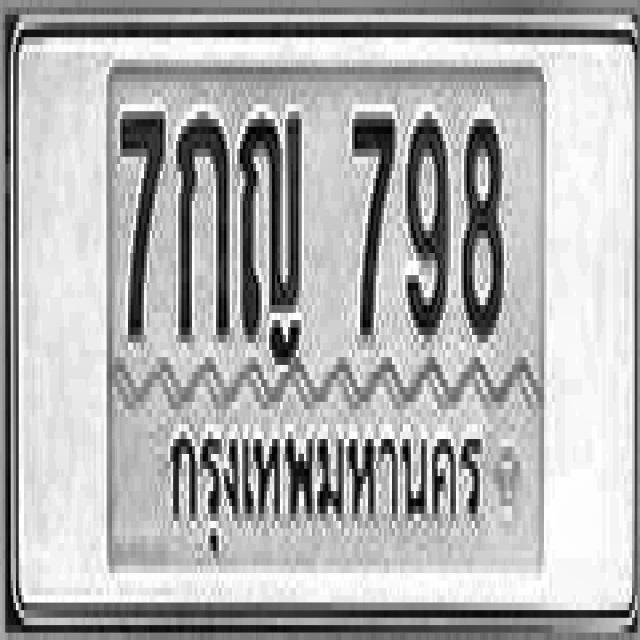license-plate: (11, 14, 635, 618)
